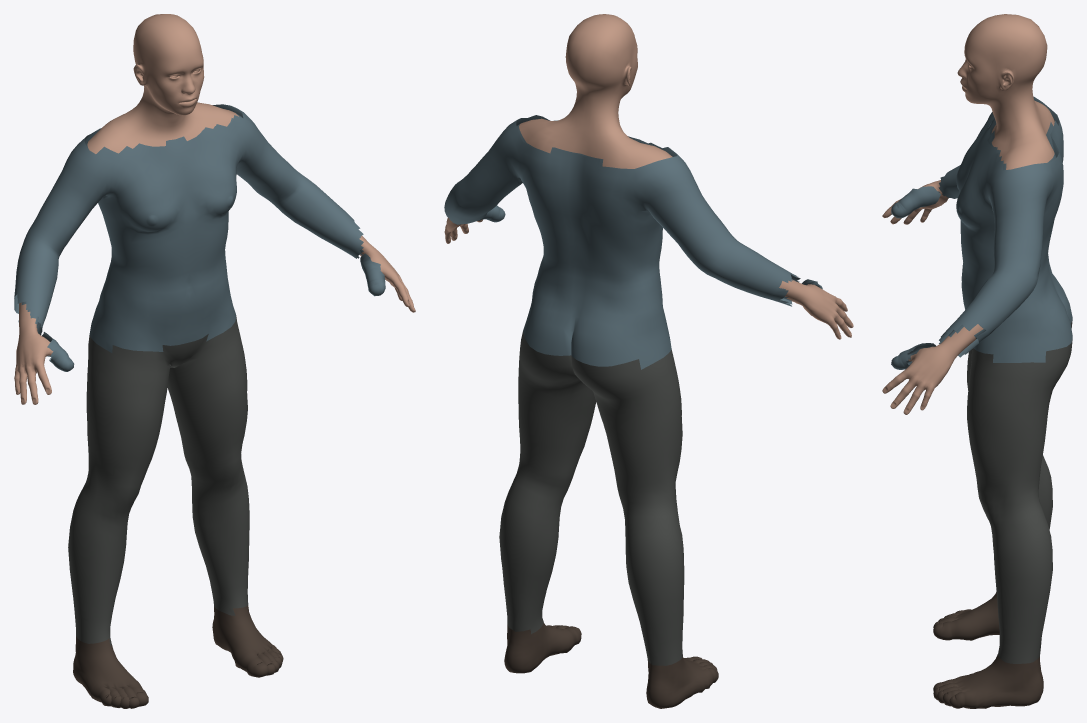
The model's file is mpfb-neutral-adult.glb.
3 views of the same model, side by side, from view 1: azimuth 30°, elevation 25°; view 2: azimuth 150°, elevation 25°; view 3: azimuth 270°, elevation 25° (orthographic).
Parts seen in each view (by area): view 1: Shirt, Trousers, MPFB adult sample, Shoes; view 2: Shirt, Trousers, MPFB adult sample, Shoes; view 3: Shirt, Trousers, MPFB adult sample, Shoes.
Boxes of the visible parts, x1,y1,x2,y2 form: Shirt: [14, 104, 385, 371]; Trousers: [68, 315, 249, 645]; MPFB adult sample: [14, 14, 415, 404]; Shoes: [73, 605, 283, 708]; Shirt: [444, 115, 822, 369]; Trousers: [499, 331, 684, 665]; MPFB adult sample: [444, 14, 853, 339]; Shoes: [504, 622, 718, 708]; Shirt: [891, 96, 1072, 369]; Trousers: [967, 321, 1072, 663]; MPFB adult sample: [882, 14, 1056, 414]; Shoes: [933, 591, 1043, 708].
Size of the model in its own units: 1.11 by 1.75 by 0.4654.
